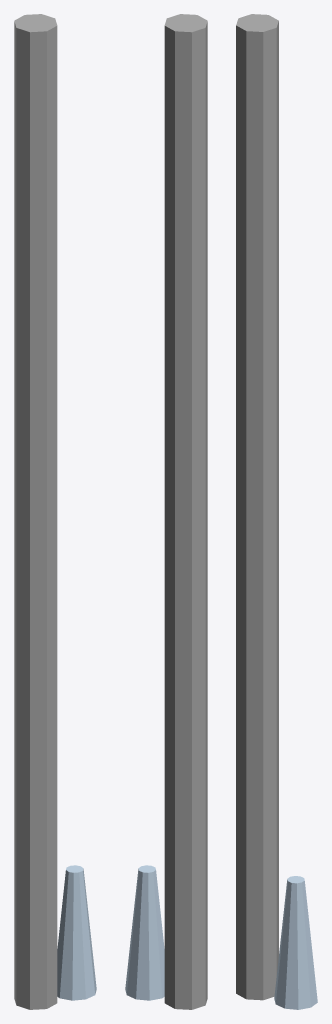
Rendered from downspout_drip.glb.
3 renders of one model, left to right at view 1: azimuth 30°, elevation 25°; view 2: azimuth 150°, elevation 25°; view 3: azimuth 330°, elevation 25°, orthographic.
Visible parts, largest first — view 1: spout, drip; view 2: spout, drip; view 3: spout, drip.
Part boxes in pixels (box(x1,y1,x2,y2)): spout: box(14, 14, 57, 1009); drip: box(57, 865, 96, 1000); spout: box(164, 14, 207, 1009); drip: box(125, 865, 164, 1000); spout: box(236, 14, 278, 1000); drip: box(274, 876, 317, 1009).
Size of the model in its own units: 0.1974 by 2.4 by 0.0996.
